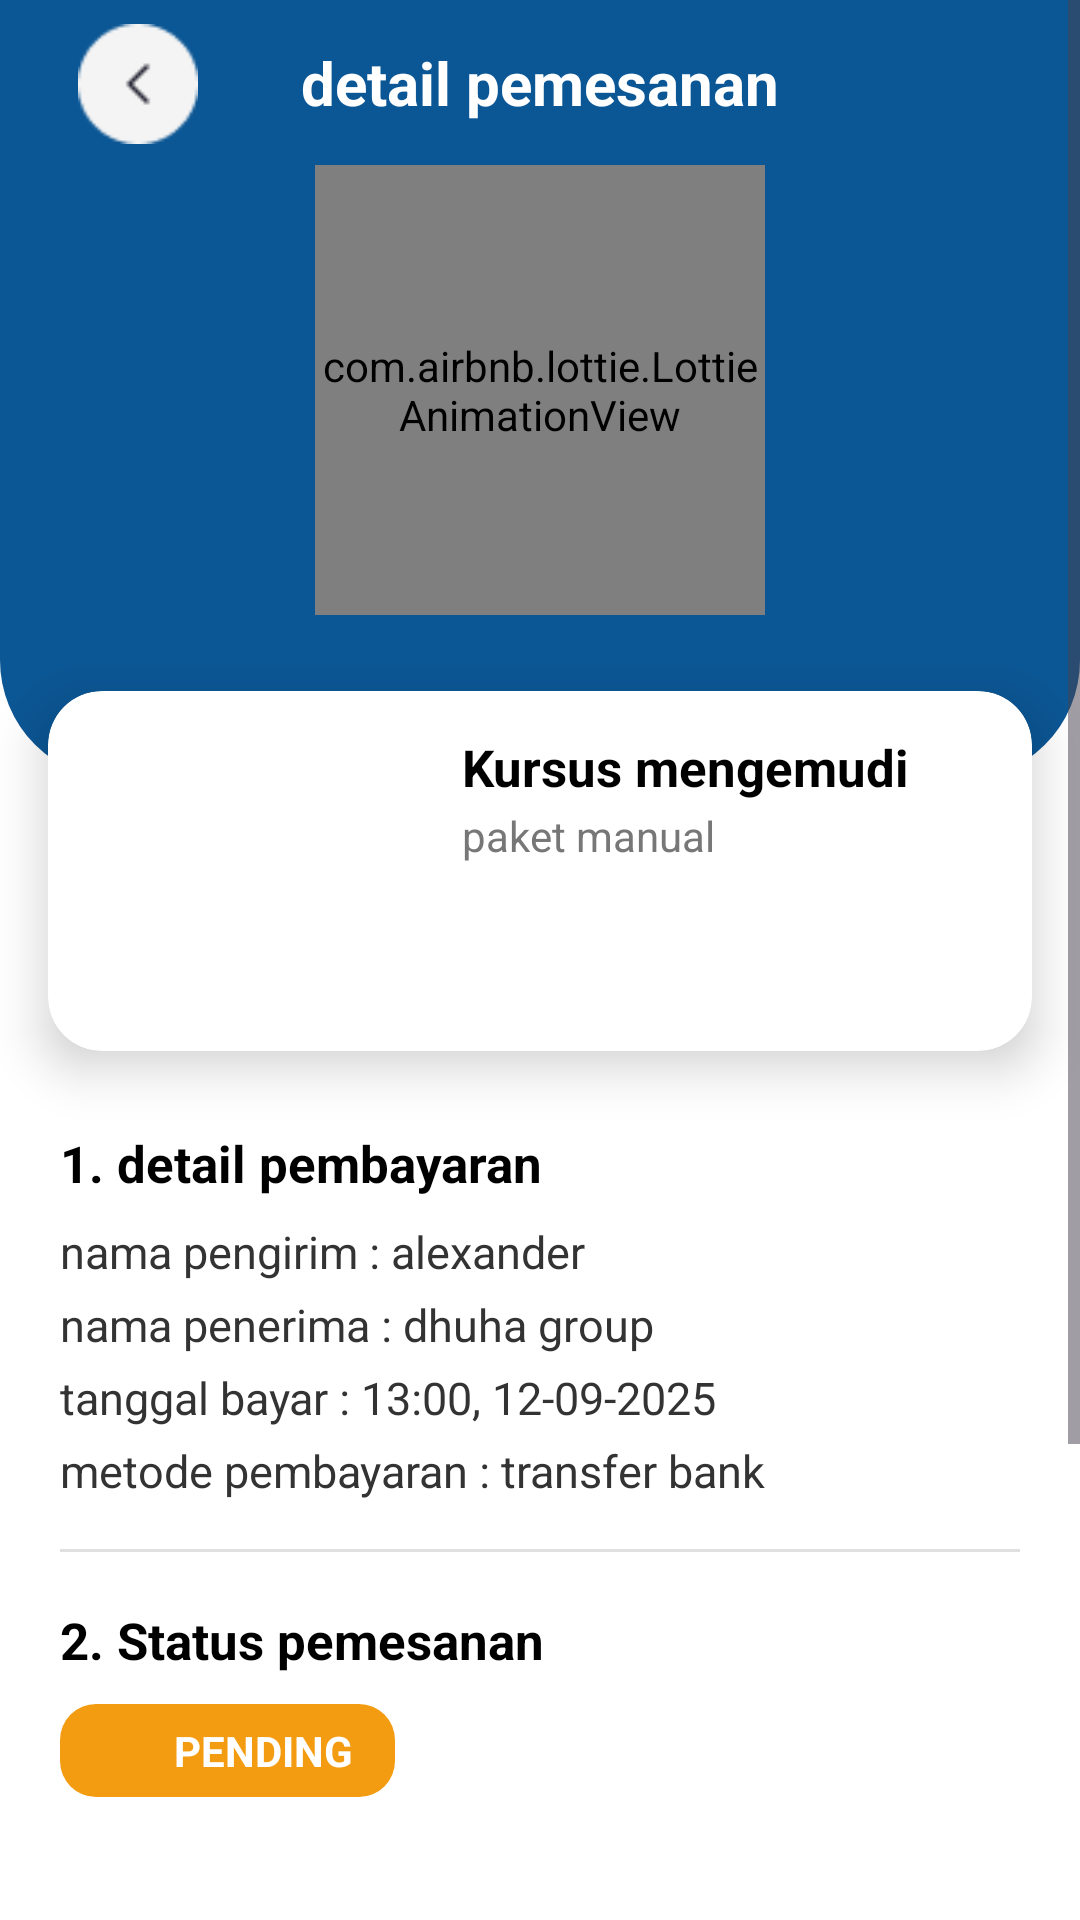

Icon click points for this 1080 × 1920 phone screenshot, format (x,y):
back: (138,84)
